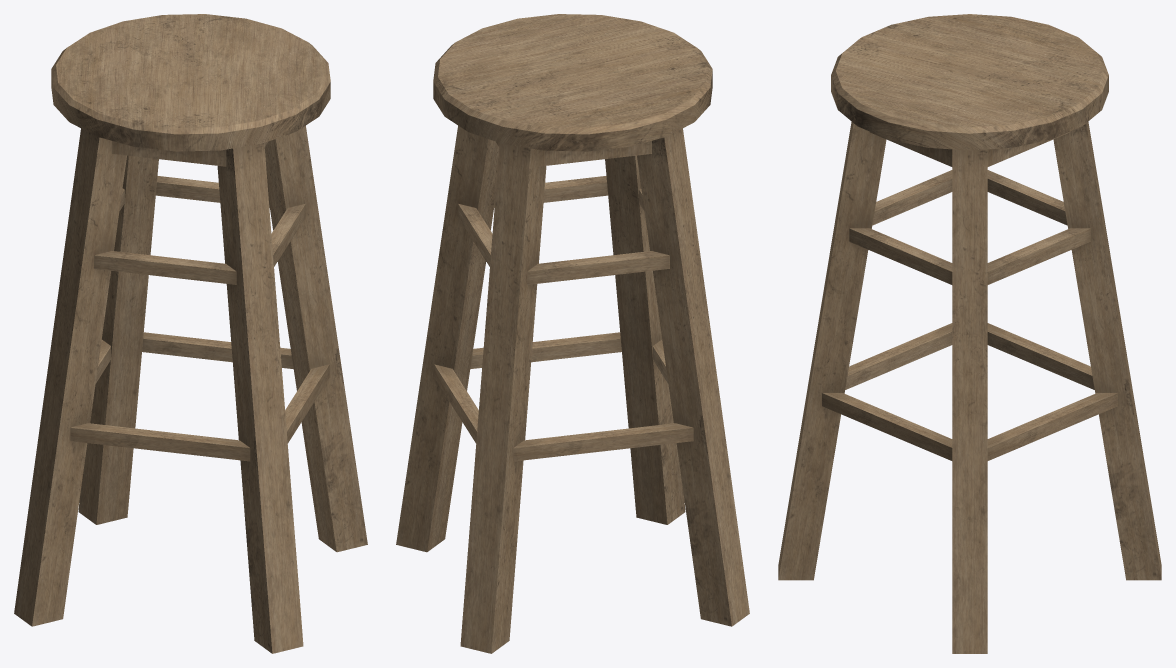
Rendered from Stool.glb.
3 views of the same model, side by side, from view 1: azimuth 30°, elevation 25°; view 2: azimuth 150°, elevation 25°; view 3: azimuth 270°, elevation 25° (orthographic).
Parts seen in each view (by area): view 1: stool; view 2: stool; view 3: stool.
Part boxes in pixels (bbox=[...]): stool: bbox=[14, 14, 367, 653]; stool: bbox=[396, 14, 749, 653]; stool: bbox=[778, 14, 1161, 653].
Bounding box in the file's own units: 26.08 × 37.69 × 26.08.
Materials: 1 (1 with a texture image).
